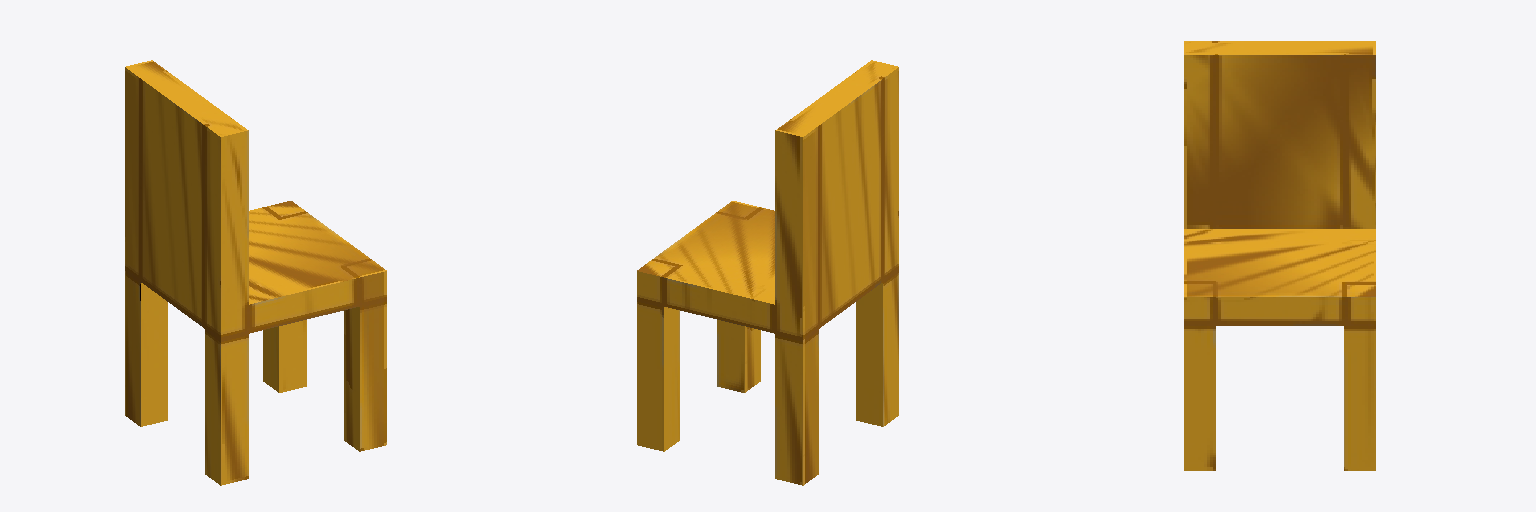
3 views of the same model, side by side, from view 1: azimuth 30°, elevation 25°; view 2: azimuth 150°, elevation 25°; view 3: azimuth 270°, elevation 25° (orthographic).
Visible parts, largest first — view 1: Cube; view 2: Cube; view 3: Cube.
Boxes of the visible parts, x1=… form: Cube: x1=125, y1=60, x2=386, y2=485; Cube: x1=637, y1=60, x2=898, y2=485; Cube: x1=1184, y1=41, x2=1375, y2=470.
Size of the model in its own units: 6 by 12 by 6.
1 materials, 1 textured.